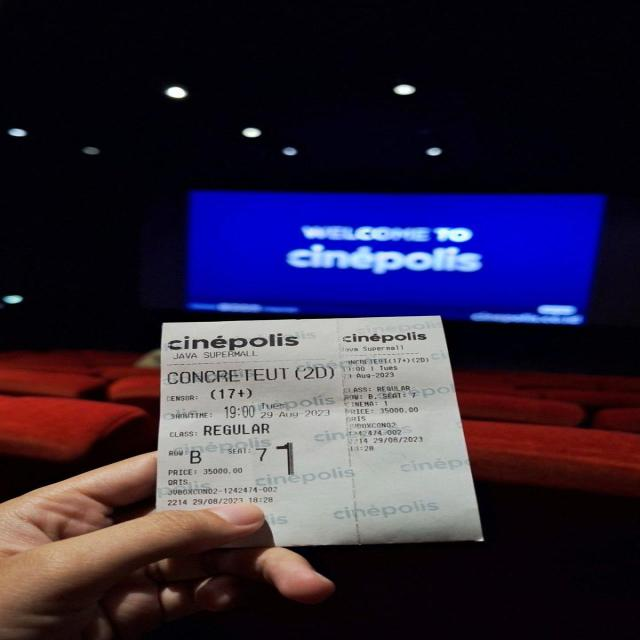date: (220, 402, 338, 424)
store: (166, 336, 328, 362)
total: (165, 468, 251, 478)
